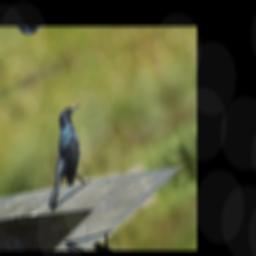Crow: (15, 101, 113, 213)
